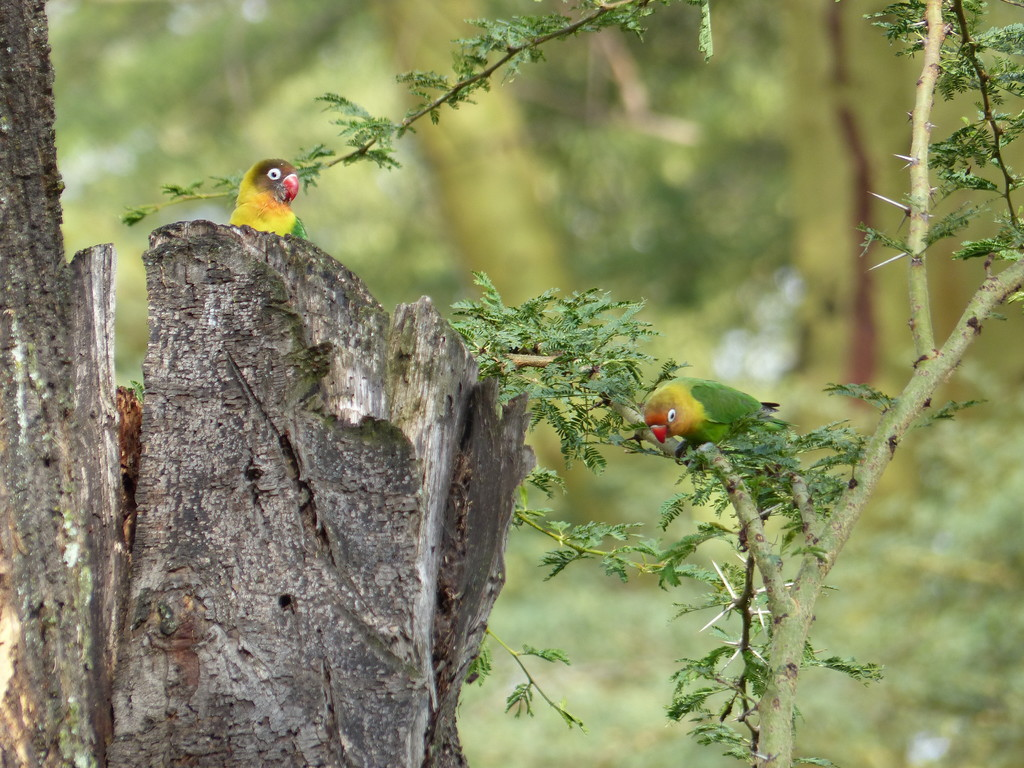Tree: (28, 55, 1013, 759)
